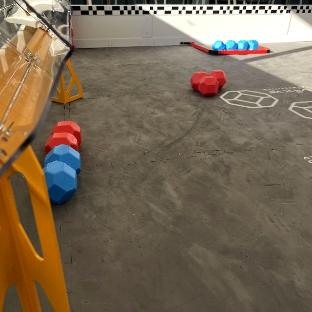Goal: (0, 0, 72, 310), (53, 58, 81, 103)
Parking-R: (187, 41, 269, 54)
V5_BLUE: (43, 144, 81, 203), (213, 40, 224, 49), (248, 40, 257, 48)
V5_RED: (44, 120, 81, 153), (191, 70, 226, 96)
